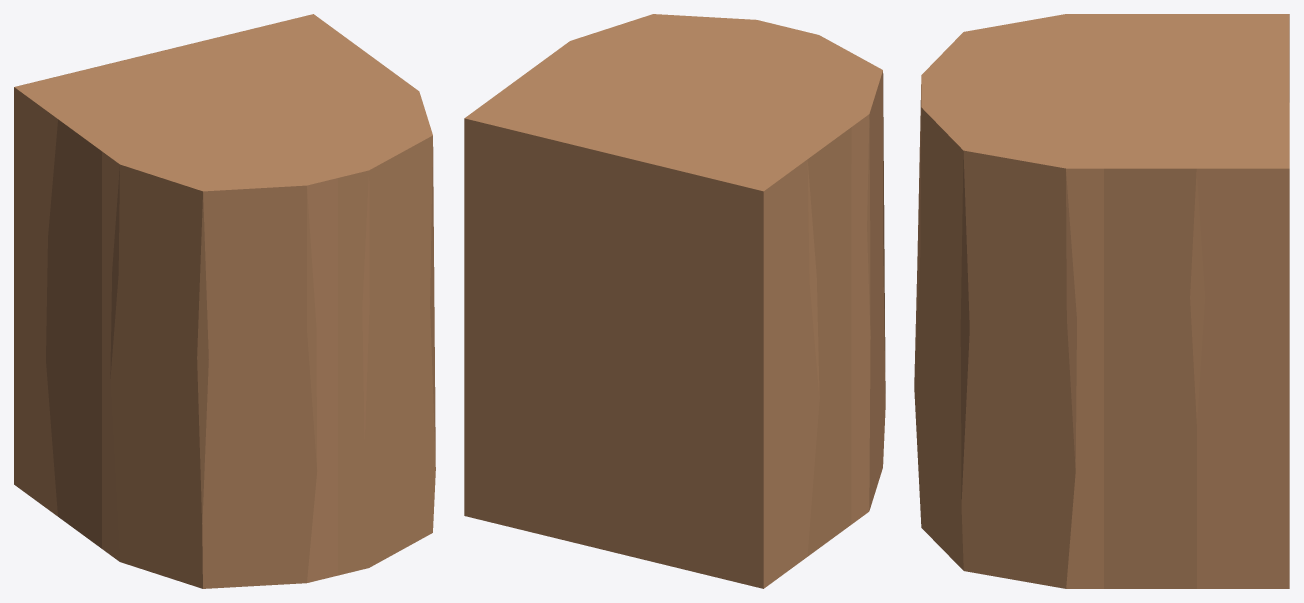
File: Edge_single_corner.fbx
3 renders of one model, left to right at view 1: azimuth 30°, elevation 25°; view 2: azimuth 150°, elevation 25°; view 3: azimuth 270°, elevation 25°, orthographic. The views are drawn at different scales.
Visible parts, largest first — view 1: Cube.148; view 2: Cube.148; view 3: Cube.148.
Boxes of the visible parts, bbox=[...] form: Cube.148: bbox=[14, 14, 435, 588]; Cube.148: bbox=[464, 14, 885, 588]; Cube.148: bbox=[914, 14, 1289, 588].
Bounding box in the file's own units: 0.8517 × 0.8093 × 1.
